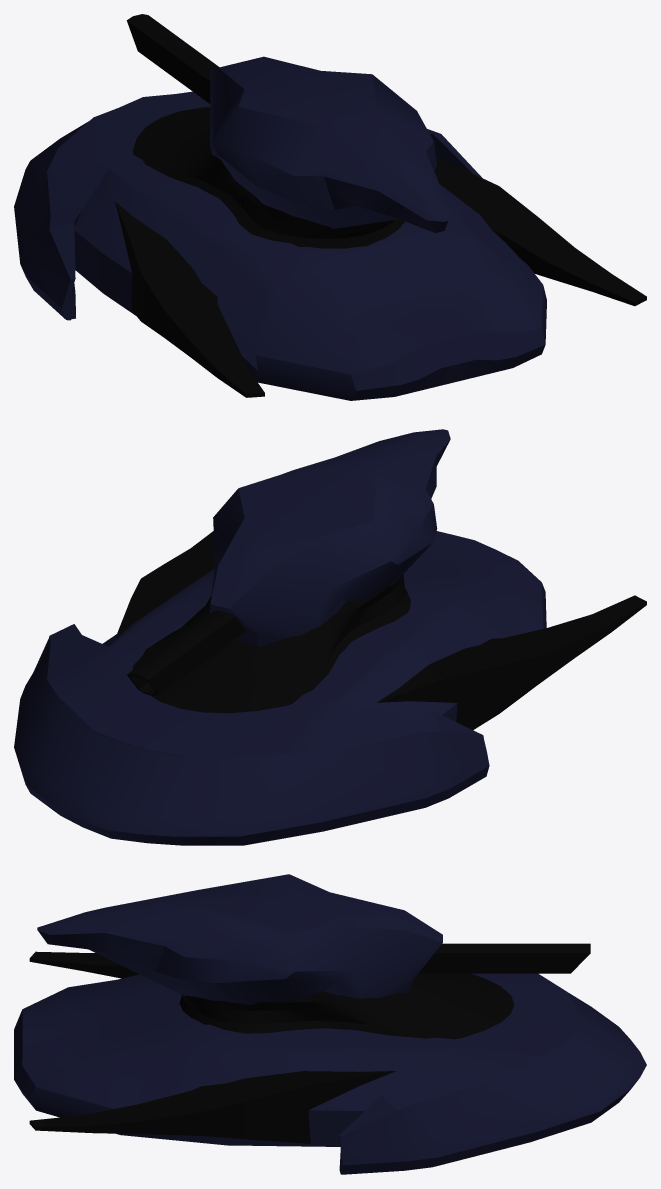
Rendered from Nucleon.glb.
3 renders of one model, top to bottom at view 1: azimuth 30°, elevation 25°; view 2: azimuth 150°, elevation 25°; view 3: azimuth 270°, elevation 25°, orthographic. The views are drawn at different scales.
Visible parts, largest first — view 1: Base, Turret, Fins, TurretBase, Barrel; view 2: Base, Turret, Fins, TurretBase, Barrel; view 3: Base, Turret, Fins, TurretBase, Barrel.
Boxes of the visible parts, x1,y1,x2,y2 form: Base: (14, 91, 546, 400); Turret: (210, 56, 450, 232); Fins: (115, 158, 646, 397); TurretBase: (132, 107, 405, 248); Barrel: (126, 14, 219, 103); Base: (14, 531, 546, 845); Turret: (210, 429, 450, 646); Fins: (115, 531, 646, 729); TurretBase: (132, 574, 410, 713); Barrel: (127, 610, 245, 695); Base: (14, 973, 646, 1174); Turret: (37, 874, 442, 1004); Fins: (29, 951, 395, 1143); TurretBase: (179, 973, 514, 1039); Barrel: (418, 943, 590, 973).
Size of the model in its own units: 1.12 by 0.511 by 1.59.
